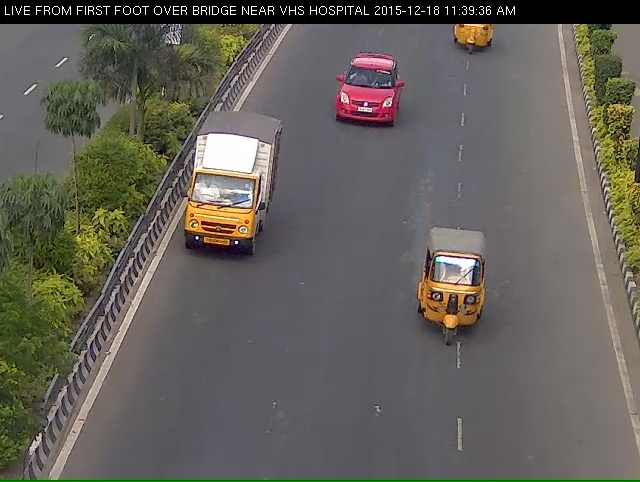Car: (178, 127, 277, 279), (414, 243, 494, 373), (327, 60, 404, 138), (446, 18, 500, 62)
